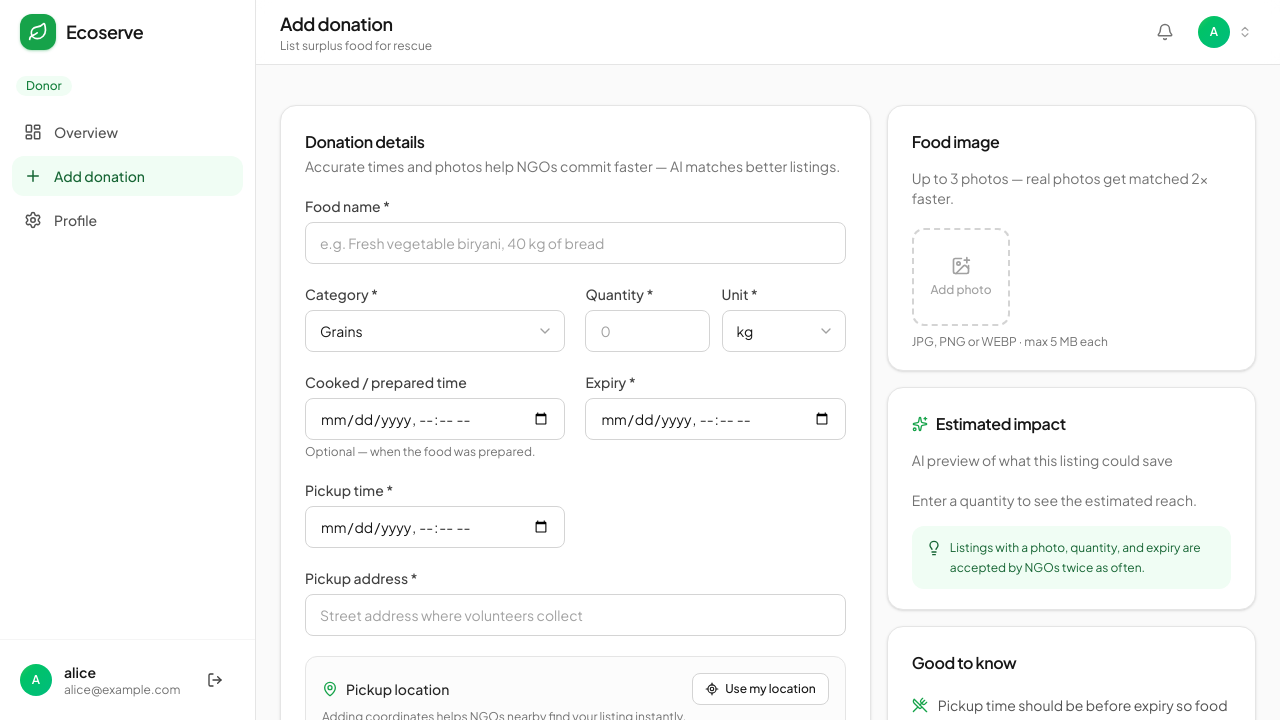
NewDonationPage › rejects a pickup time after the expiry time
In the field labelled "Food name *": (575, 243) [305,222,846,264], type "Paneer Biryani"
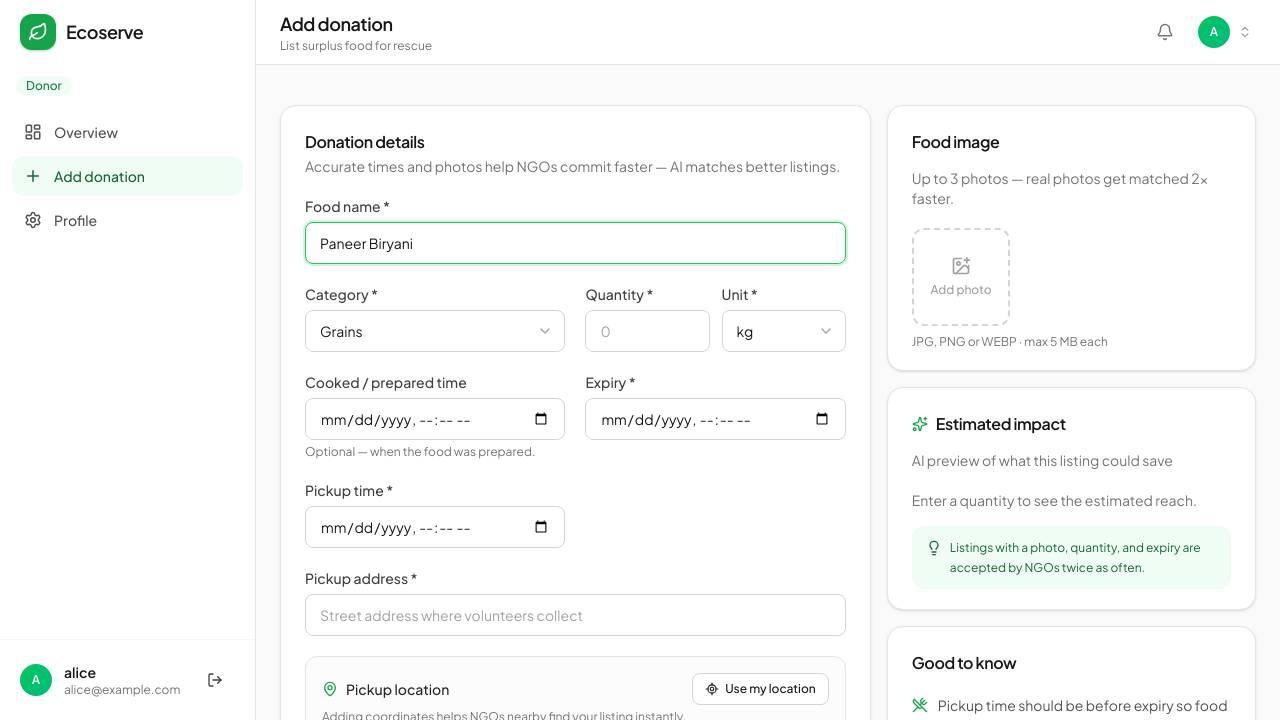
In the number field labelled "Quantity *": (648, 331) [585,310,710,352], type "10"
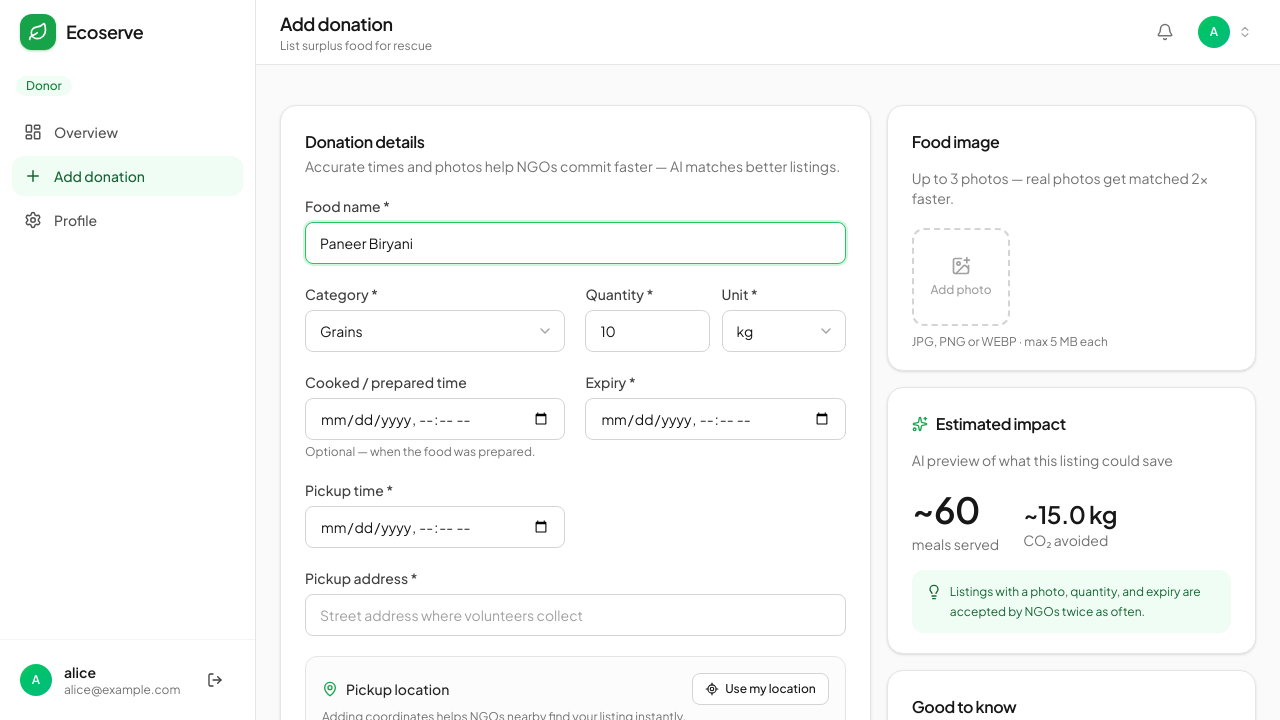
Pickup AFTER expiry — must be rejected.
In the field labelled "Expiry *": (716, 419) [585,398,846,440], type "2026-08-10T12:00"
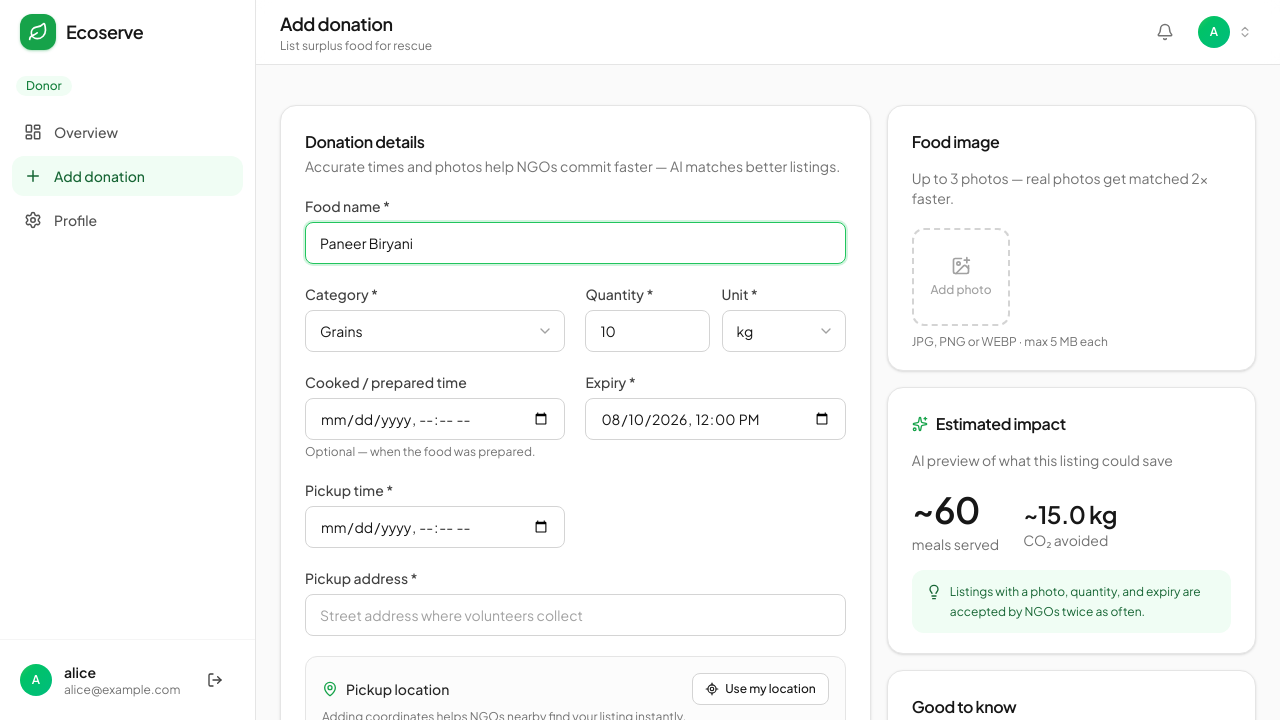
In the field labelled "Pickup time *": (435, 527) [305,506,565,548], type "2026-08-10T14:00"
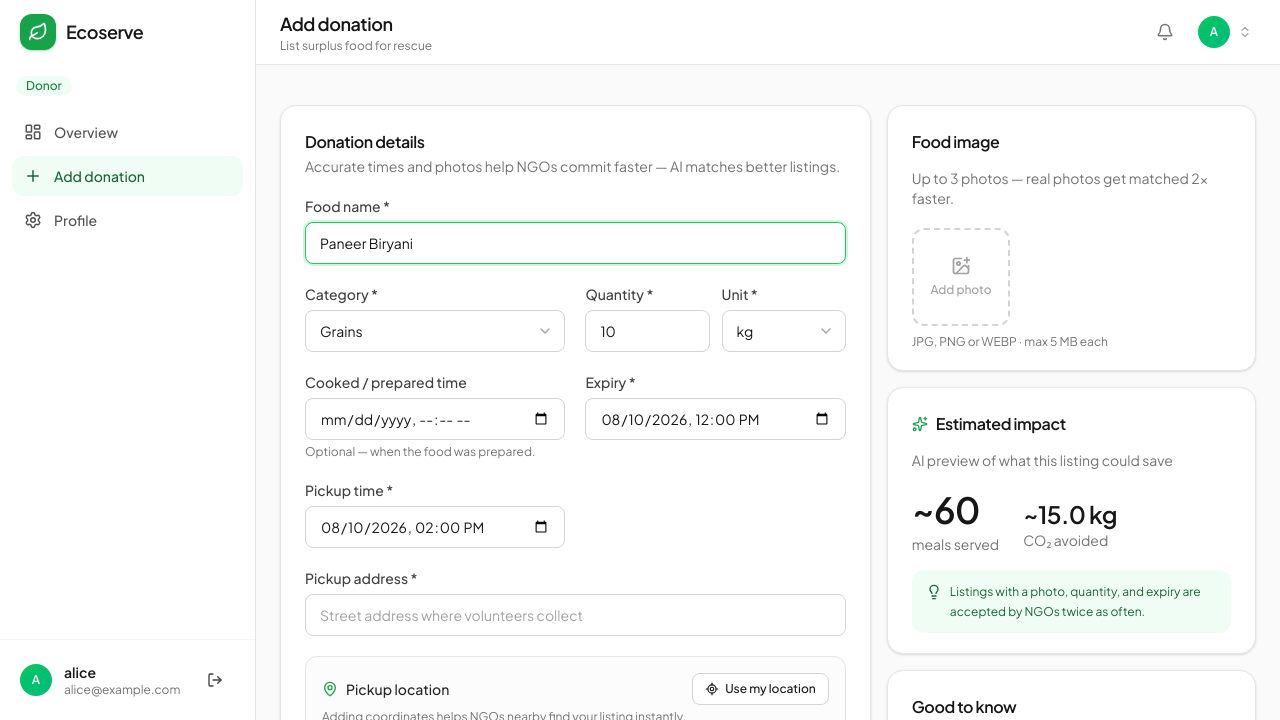
In the field labelled "Pickup address *": (575, 615) [305,594,846,636], type "12 MG Road, Bengaluru"
(page scrolled)
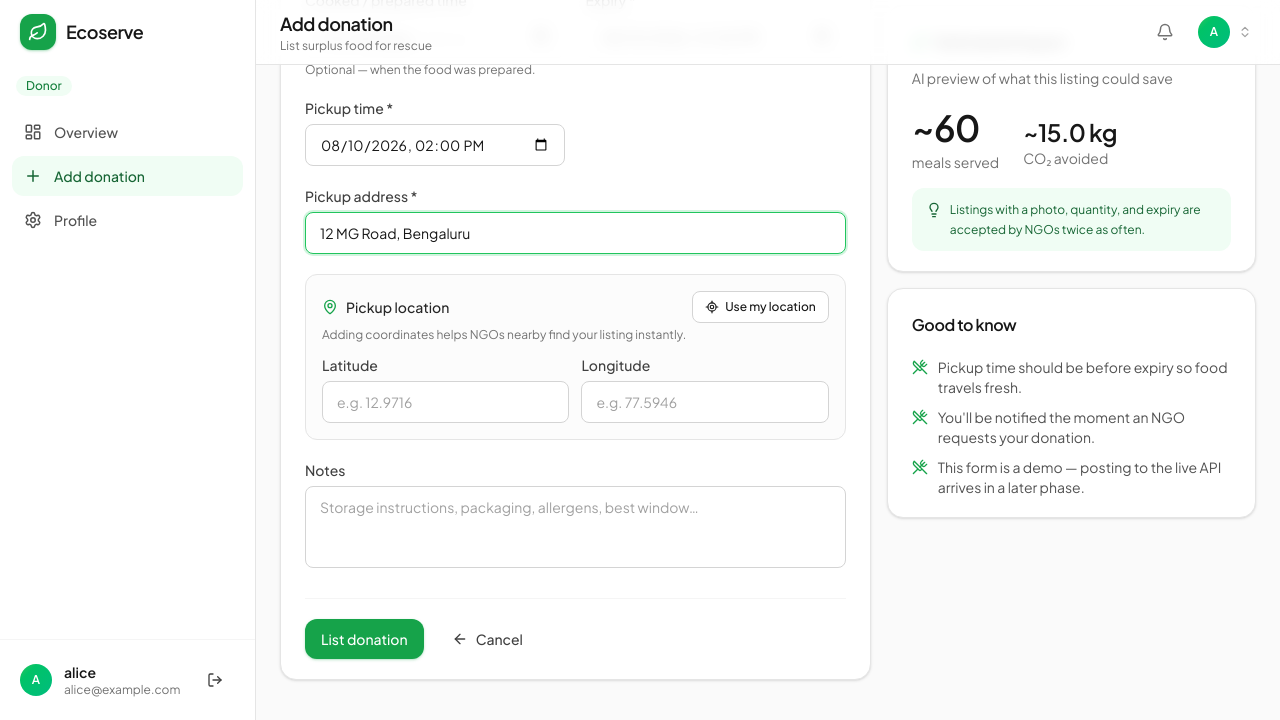
Click the button "List donation": (364, 639) [305,619,424,659]
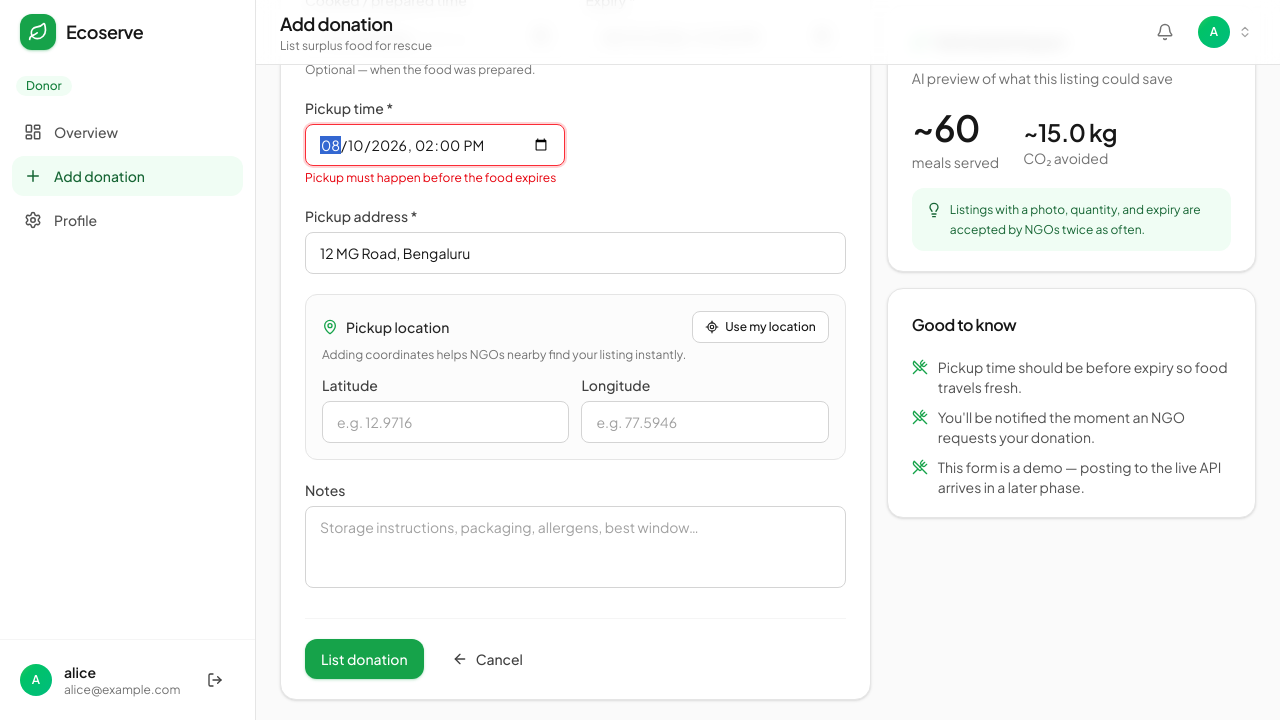
Result: the text "Pickup must happen before the food expires" is shown at [305,170,565,186]
